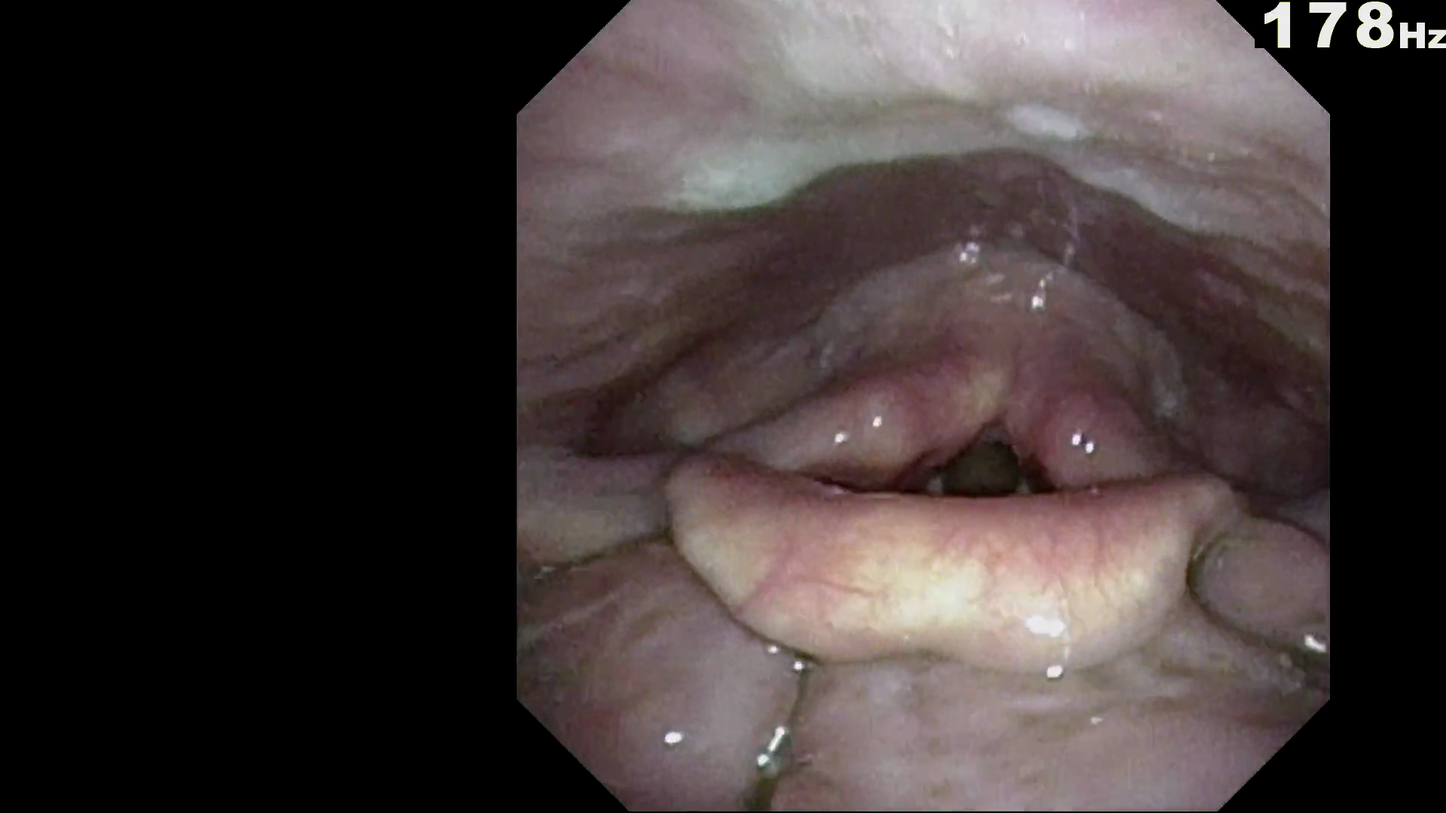epiglottis: (680, 473, 1224, 664)
trachea: (917, 437, 1069, 527)
